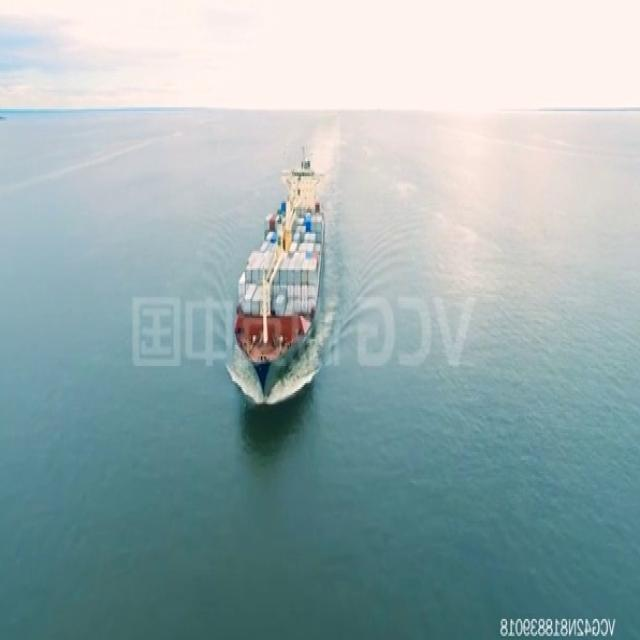cargoship: (230, 140, 333, 399)
